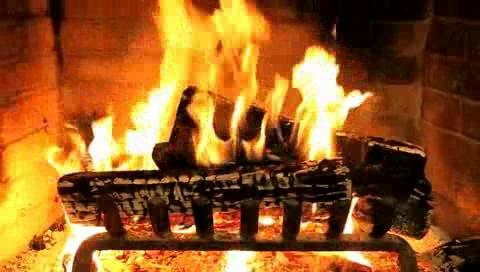fire: (111, 3, 348, 160)
